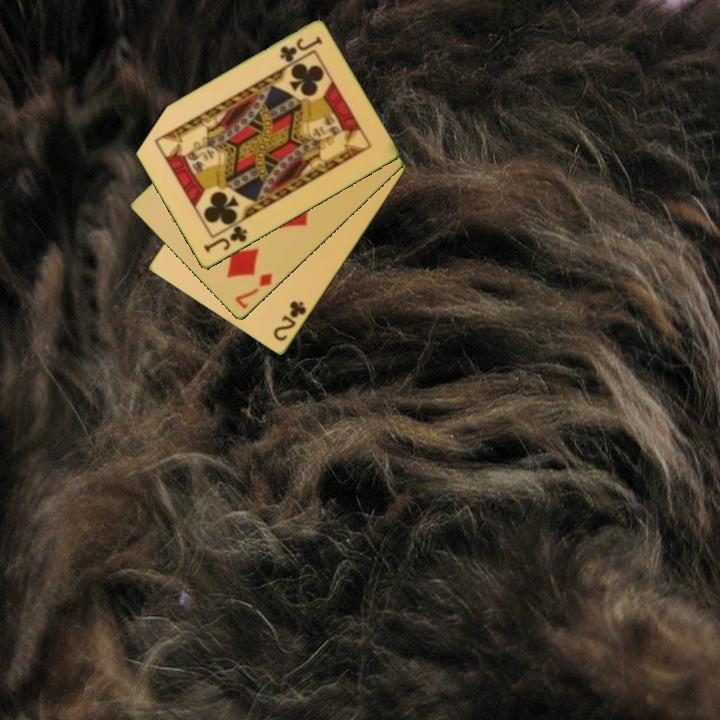2c: (270, 297, 310, 345)
7d: (231, 269, 275, 312)
Jc: (200, 222, 250, 256), (276, 33, 325, 66)
